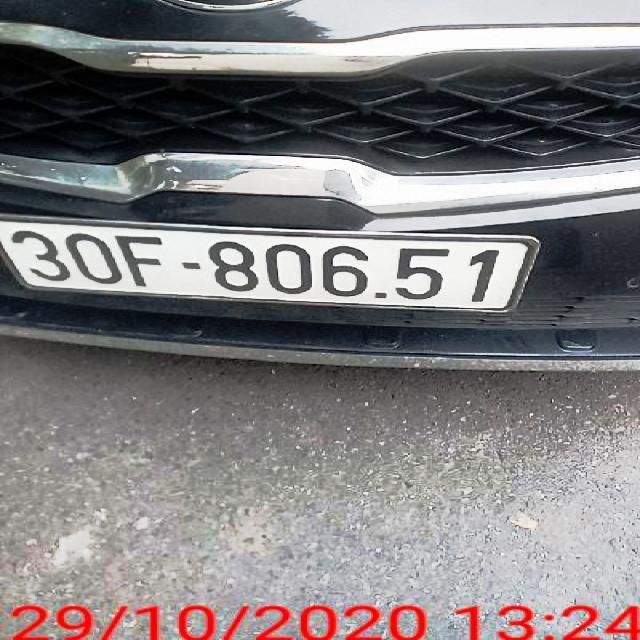license_plate: (1, 218, 532, 312)
